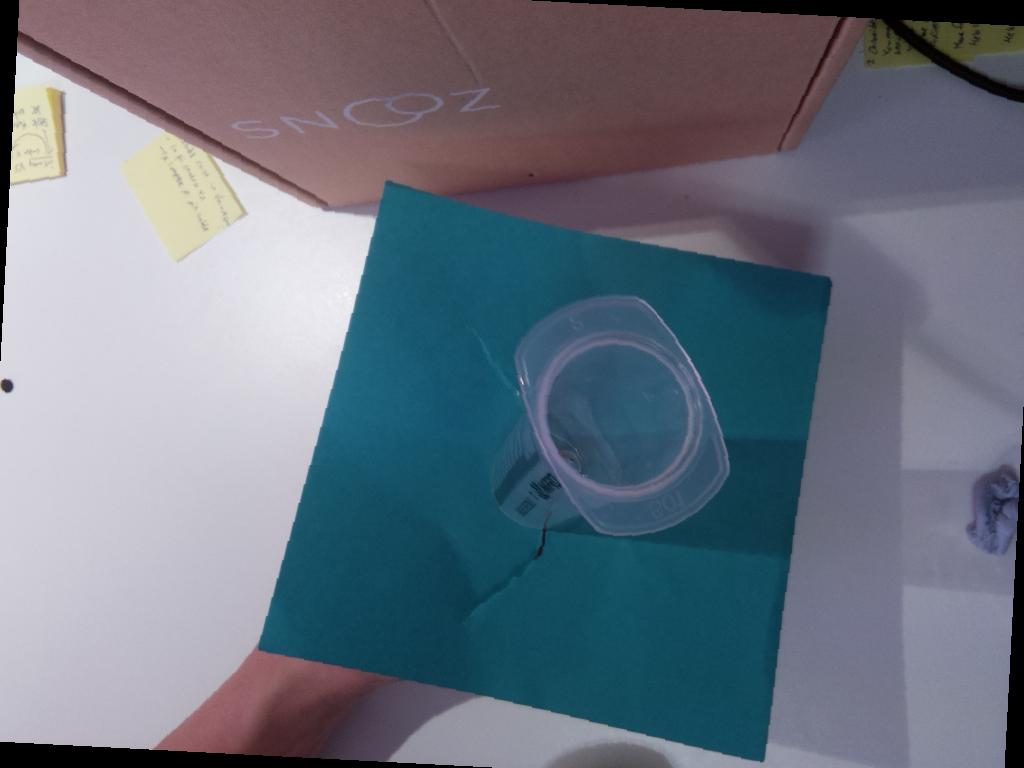clean: (511, 295, 731, 538)
